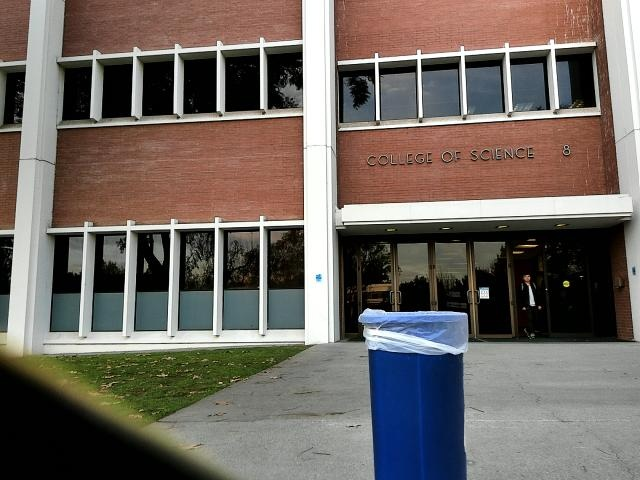trashcan_open: (354, 300, 481, 480)
